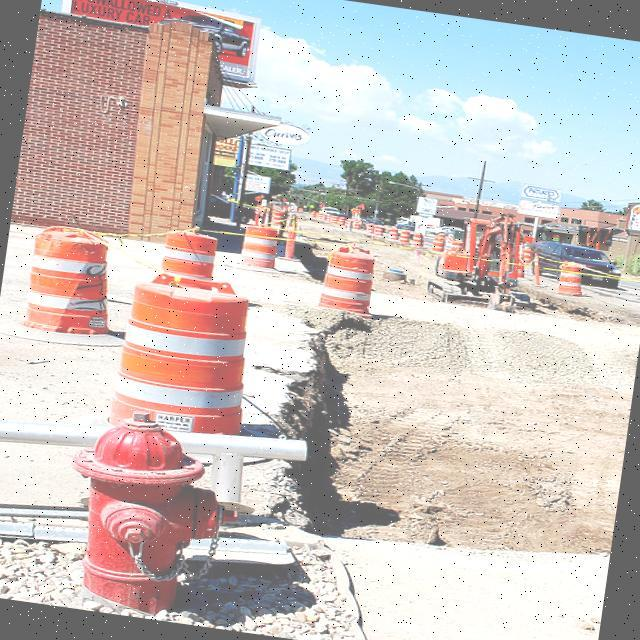fire_hydrant: (49, 401, 252, 627)
